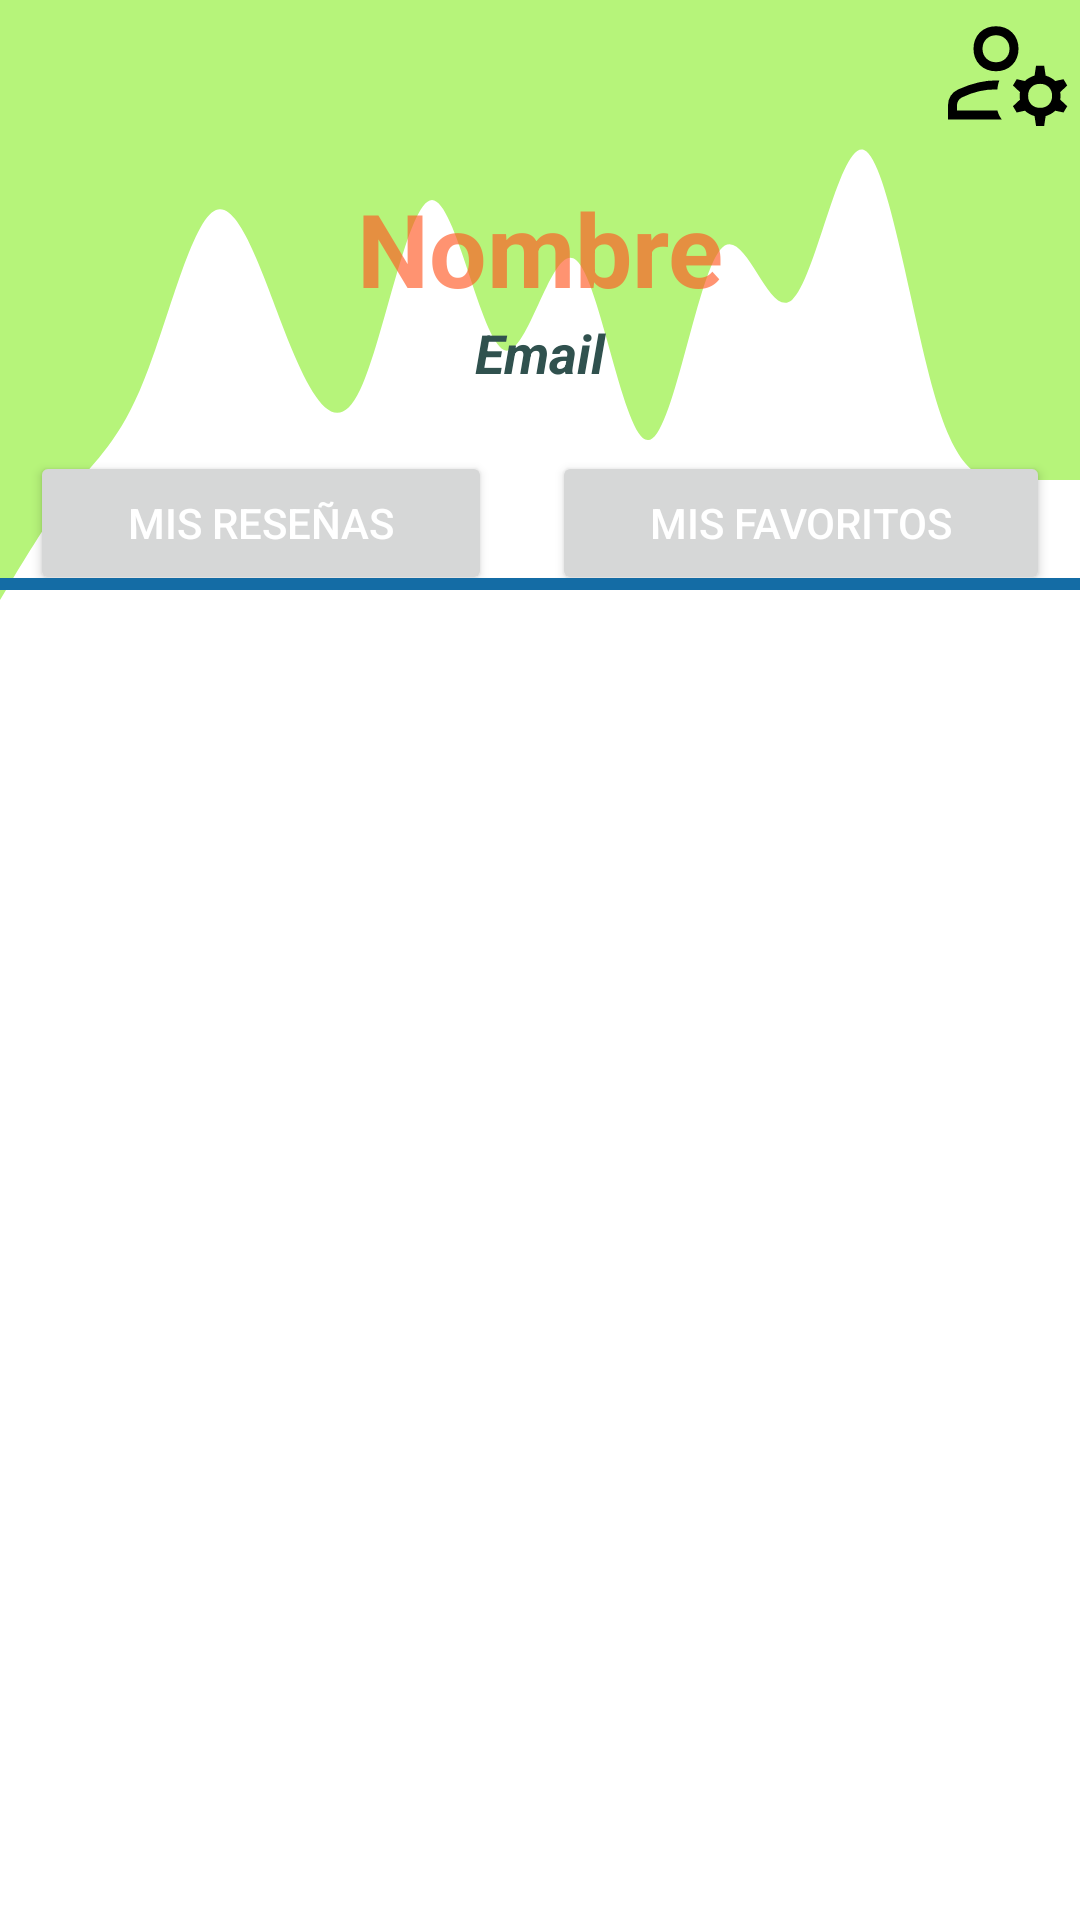

Icon click points for this 1080w x 1920h phone screenshot, format [x,y]:
settings: [1008,76]
